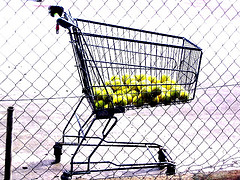tennis ball: (112, 96, 128, 106), (169, 85, 181, 98), (110, 80, 123, 91), (139, 87, 152, 98), (122, 73, 133, 85), (129, 80, 141, 91), (132, 95, 143, 107), (151, 85, 163, 95), (161, 93, 173, 103), (102, 88, 113, 98), (160, 73, 172, 82), (162, 81, 175, 89), (179, 91, 189, 101), (94, 100, 105, 109), (92, 88, 103, 97), (147, 74, 156, 84), (125, 93, 133, 103), (101, 80, 111, 87), (137, 74, 146, 81), (110, 76, 121, 81)
